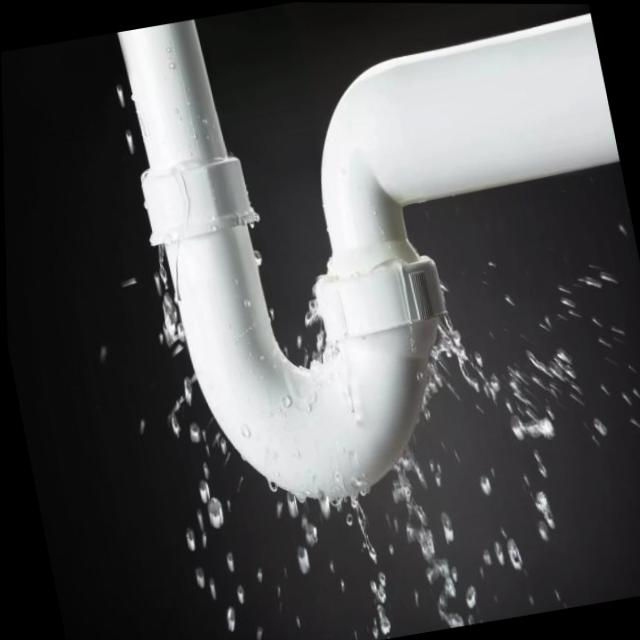leak: (153, 247, 382, 633), (381, 313, 640, 624)
